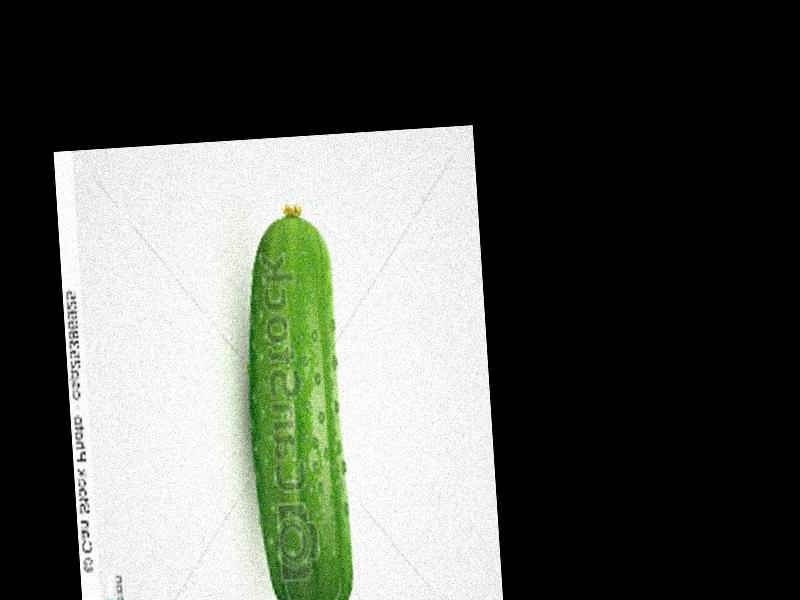Cucumber: (238, 200, 358, 600)
